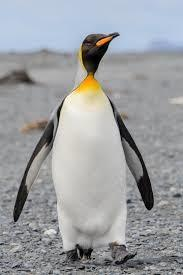king: (23, 25, 168, 271)
